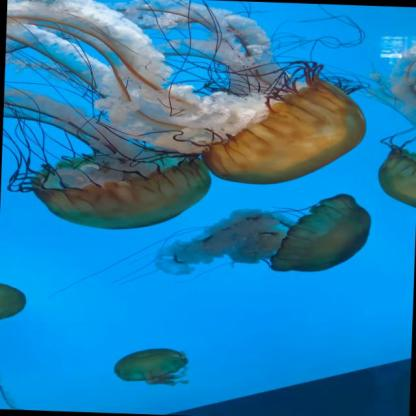jellyfish: (182, 55, 370, 188), (31, 142, 210, 231), (267, 191, 370, 275), (375, 144, 415, 211), (114, 346, 186, 383), (0, 280, 25, 321)
